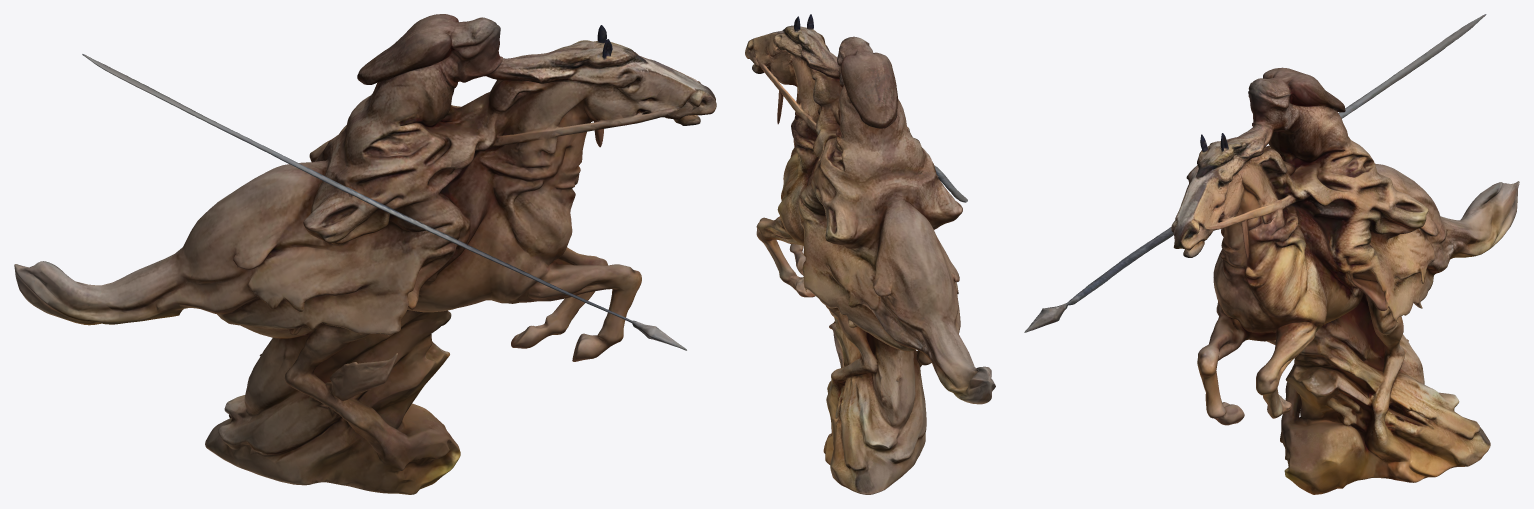
Rendered from bioguera.glb.
The picture shows the model from 3 angles, left to right: view 1: azimuth 30°, elevation 25°; view 2: azimuth 150°, elevation 25°; view 3: azimuth 270°, elevation 25°; orthographic projection. The views are drawn at different scales.
Parts seen in each view (by area): view 1: tripo_node_9cfdde58-fb9a-4566-9120-033aa4882578; view 2: tripo_node_9cfdde58-fb9a-4566-9120-033aa4882578; view 3: tripo_node_9cfdde58-fb9a-4566-9120-033aa4882578.
Part boxes in pixels (bbox=[...]): tripo_node_9cfdde58-fb9a-4566-9120-033aa4882578: bbox=[14, 14, 716, 494]; tripo_node_9cfdde58-fb9a-4566-9120-033aa4882578: bbox=[745, 14, 995, 494]; tripo_node_9cfdde58-fb9a-4566-9120-033aa4882578: bbox=[1024, 14, 1519, 494].
Size of the model in its own units: 0.9999 by 0.8918 by 0.9409.
Materials: 1 (1 with a texture image).
